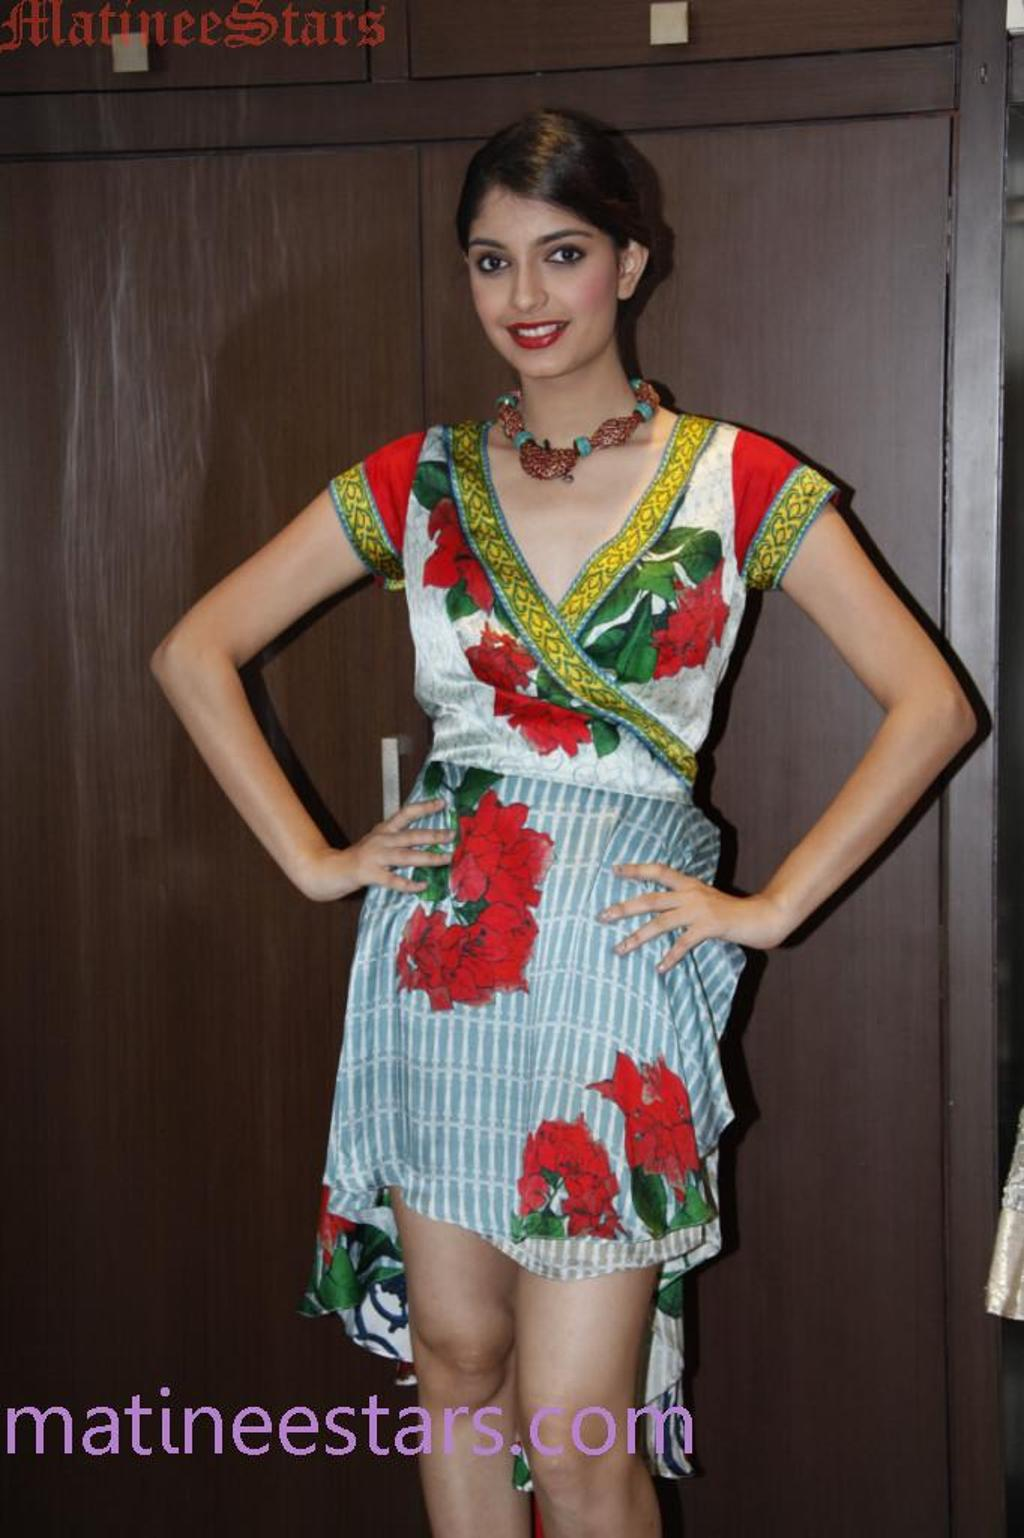face: (466, 190, 616, 376)
